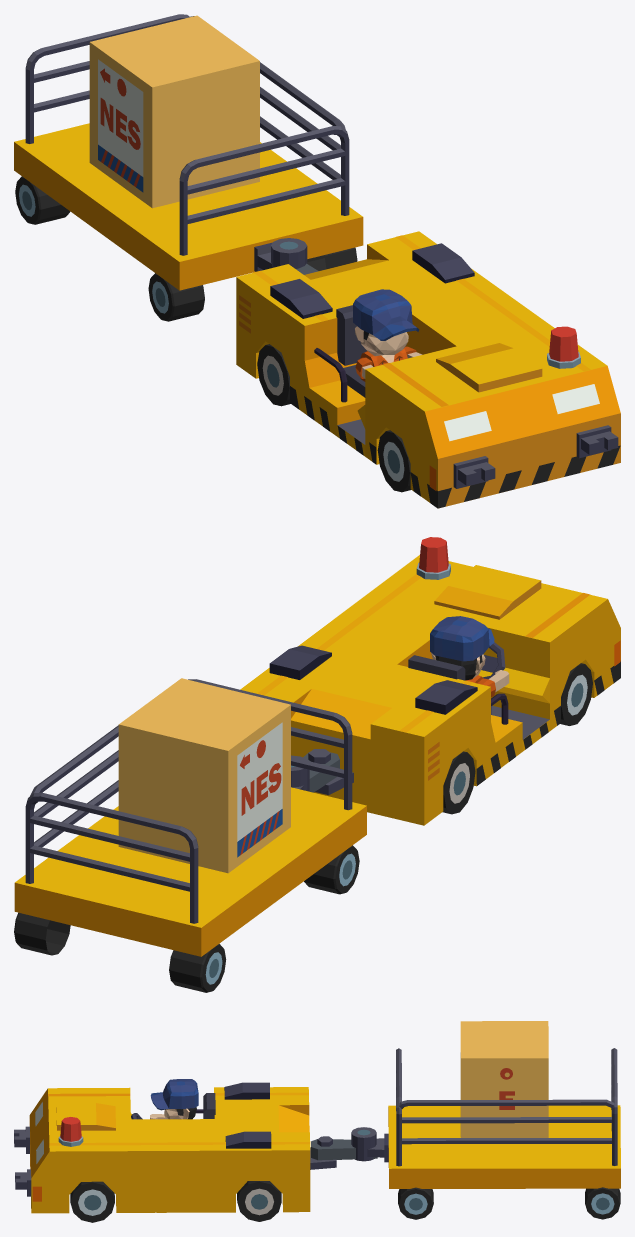
File: HuoChe1_Mo.fbx
The picture shows the model from 3 angles, top to bottom: view 1: azimuth 30°, elevation 25°; view 2: azimuth 150°, elevation 25°; view 3: azimuth 270°, elevation 25°; orthographic projection. The views are drawn at different scales.
Parts seen in each view (by area): view 1: 对象001, Box001; view 2: Box001, 对象001; view 3: 对象001, Box001.
Part boxes in pixels (box(x1,y1,x2,y2)): 对象001: box(236, 231, 620, 508); Box001: box(14, 14, 363, 321); Box001: box(14, 678, 366, 992); 对象001: box(240, 537, 620, 825); 对象001: box(14, 1079, 377, 1222); Box001: box(351, 1021, 620, 1219).
Size of the model in its own units: 473 by 492 by 1862.
